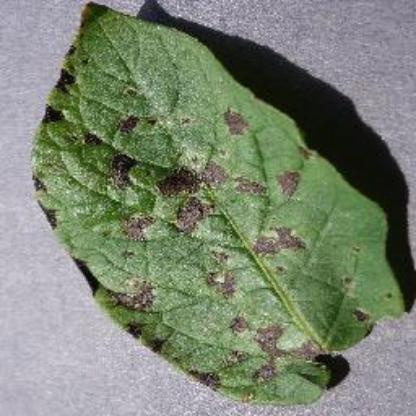Early-Blight: (30, 5, 408, 408)
